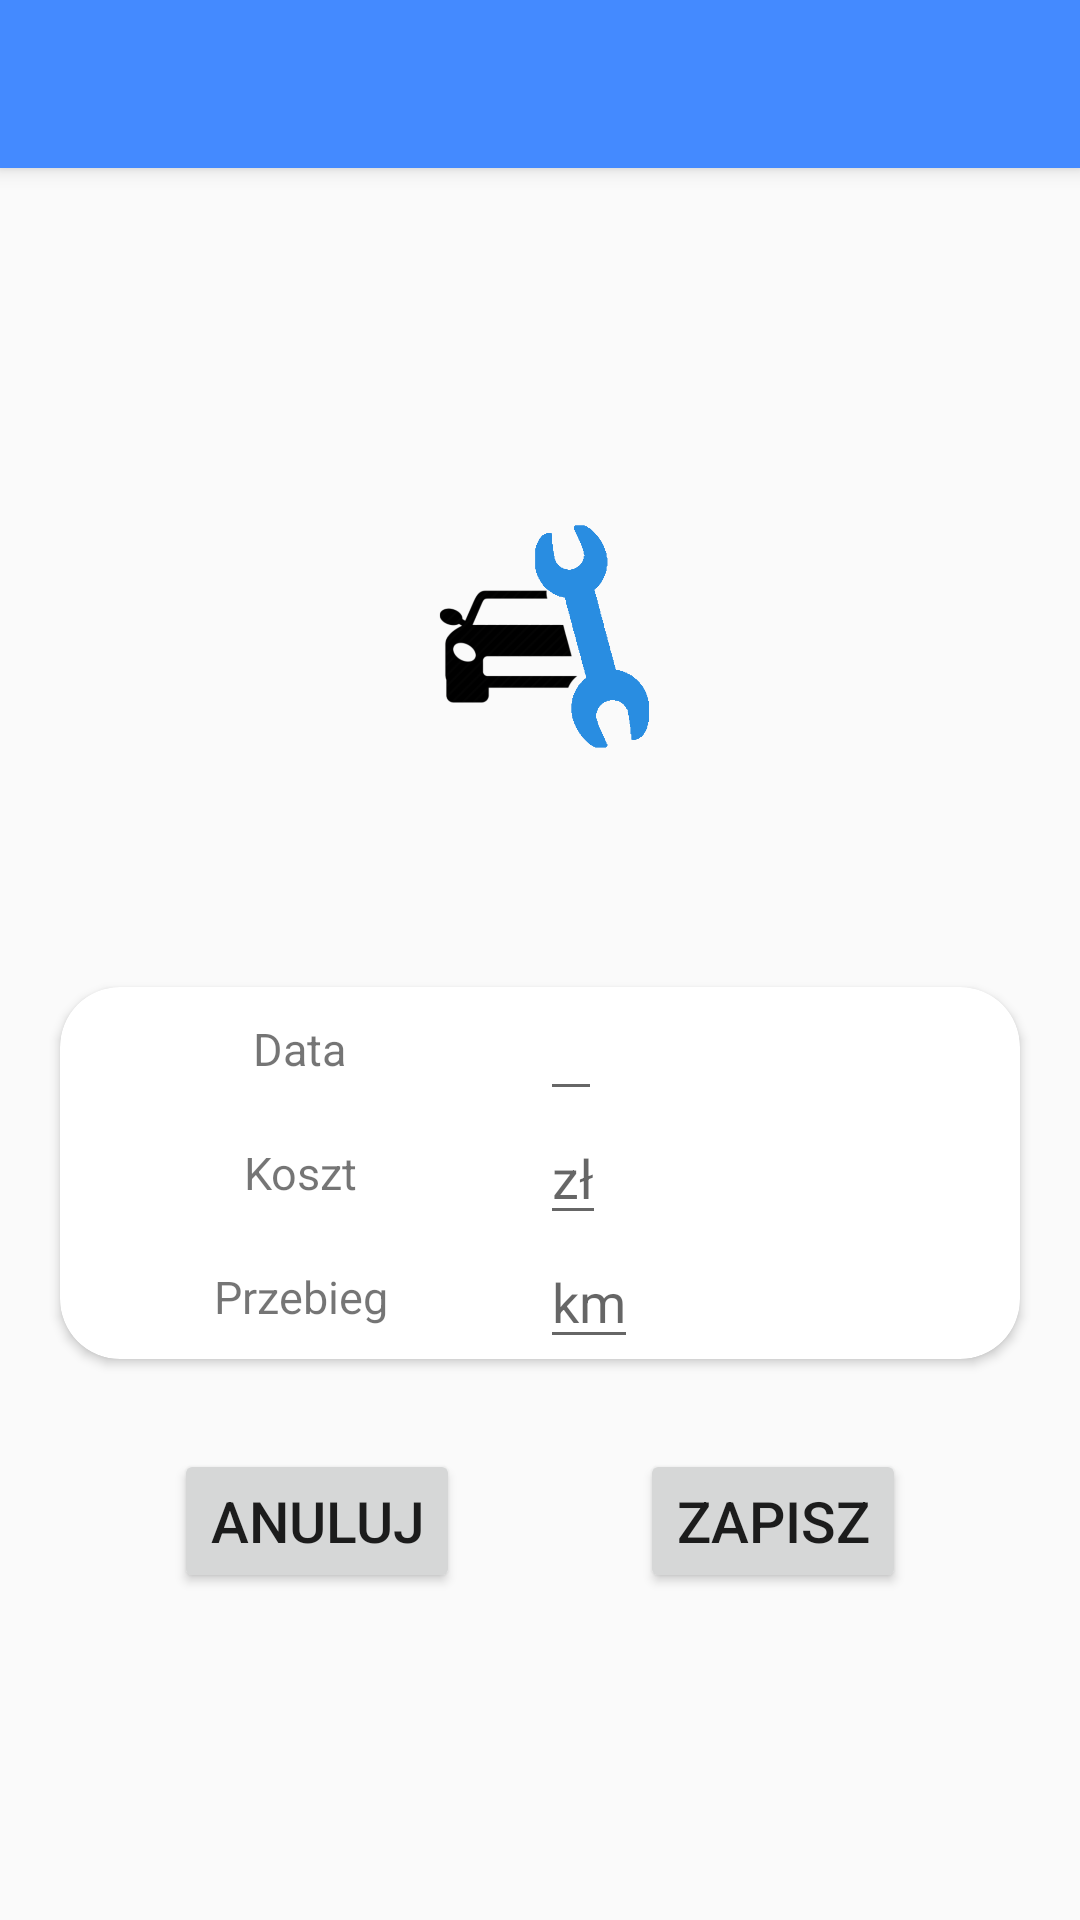

Icon bounding boxes for this 1080×1920 phone screenshot, format bbox=(x1, y1, x2, y2):
serwis: bbox=(440, 525, 649, 748)
